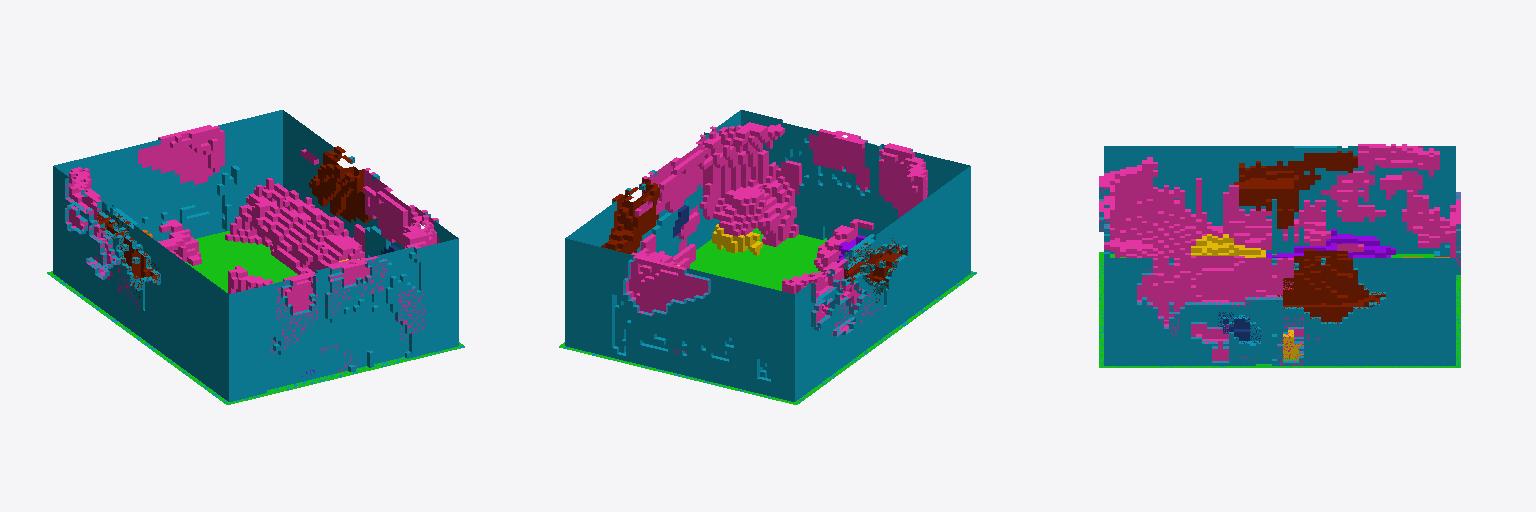
File: Input_prediction.obj
3 views of the same model, side by side, from view 1: azimuth 30°, elevation 25°; view 2: azimuth 150°, elevation 25°; view 3: azimuth 270°, elevation 25° (orthographic).
Parts seen in each view (by area): view 1: Cube; view 2: Cube; view 3: Cube.
Part boxes in pixels (bbox=[...]): Cube: bbox=[47, 110, 464, 404]; Cube: bbox=[559, 110, 976, 404]; Cube: bbox=[1099, 144, 1460, 367].
Size of the model in its own units: 4.08 by 1.76 by 5.36.